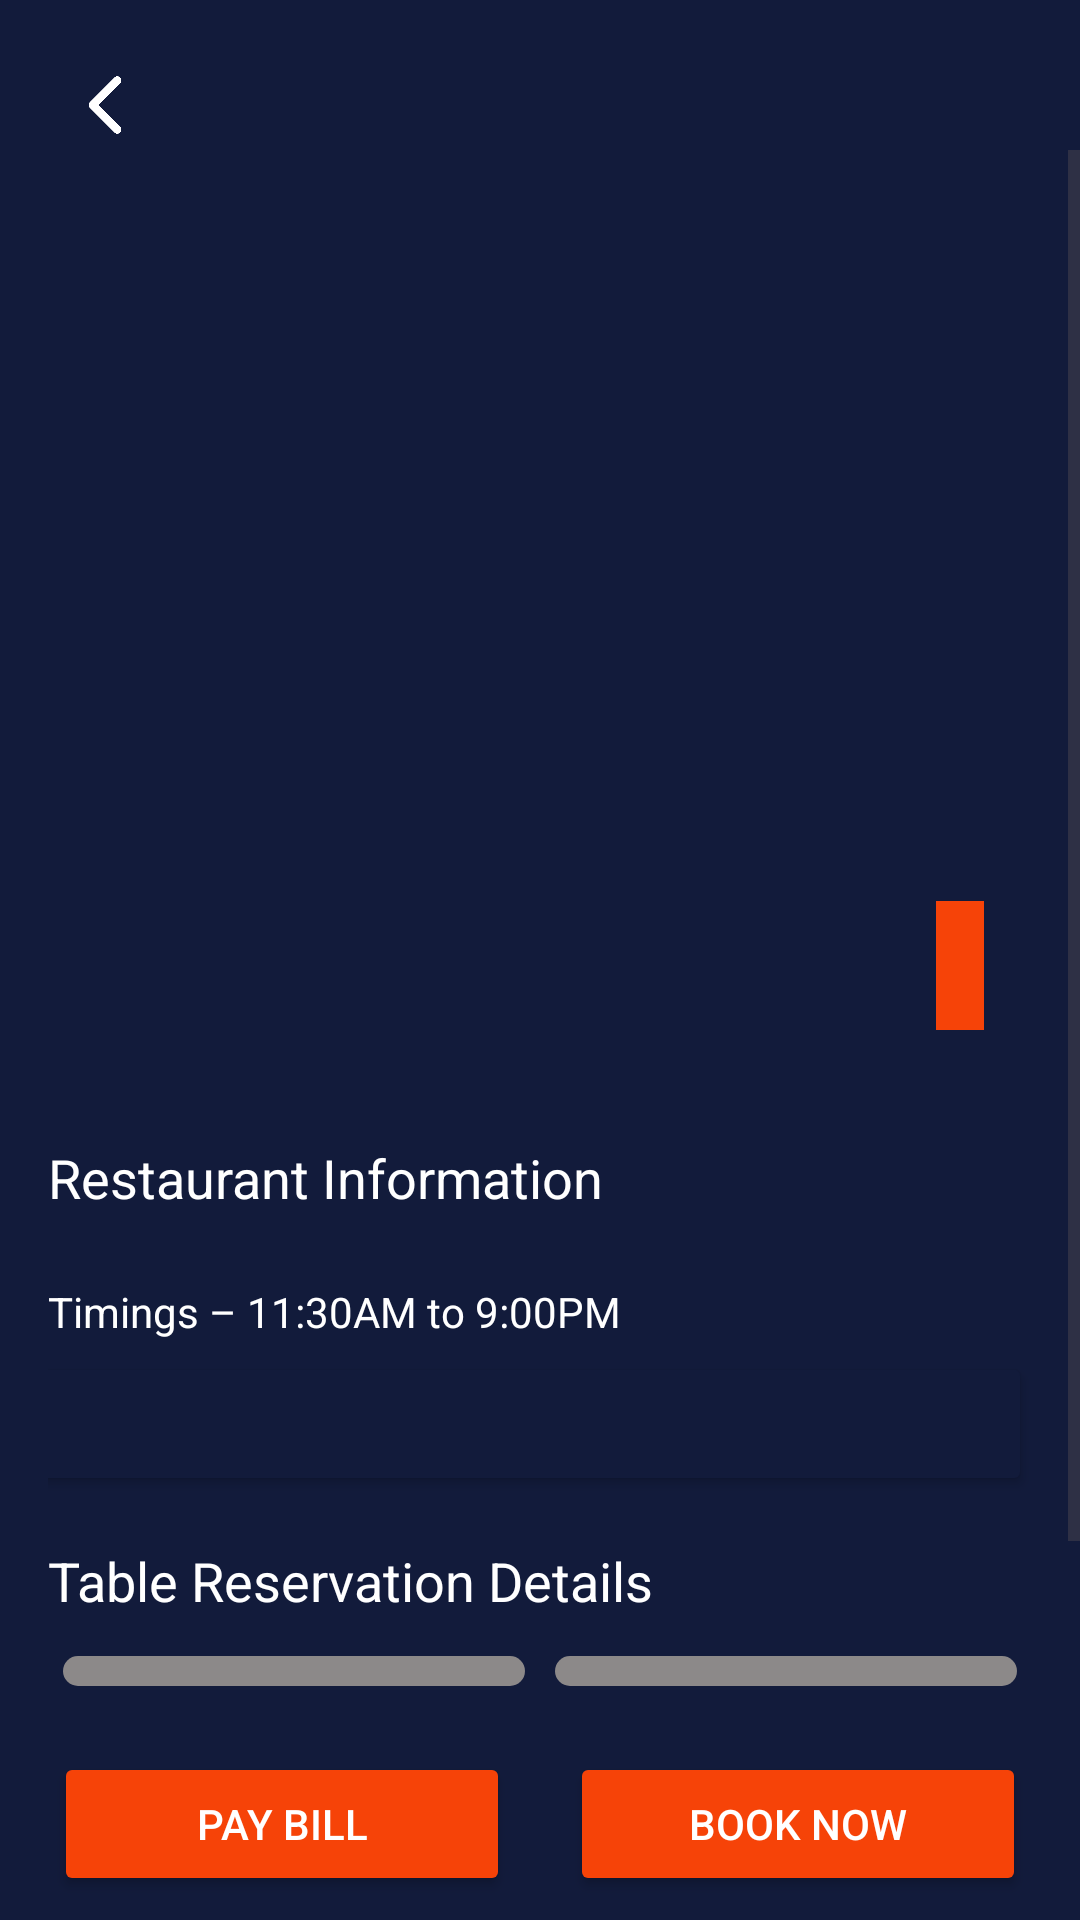

Icon bounding boxes for this 1080px x 1920px phone screenshot, format (left=x1, top=y1, right=x2, bottom=y2):
back: (left=89, top=76, right=121, bottom=134)
